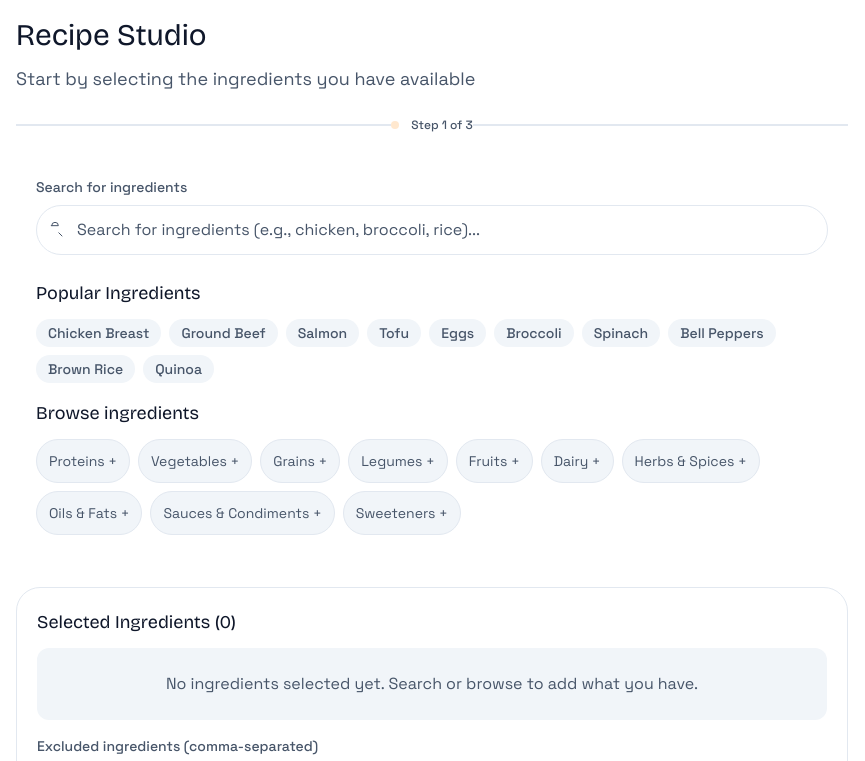
Test case: cancels on Back and ignores a stale response
Type "Lentil" into the search field labelled "Search for ingredients" at (432, 230), box [36,205,828,255]
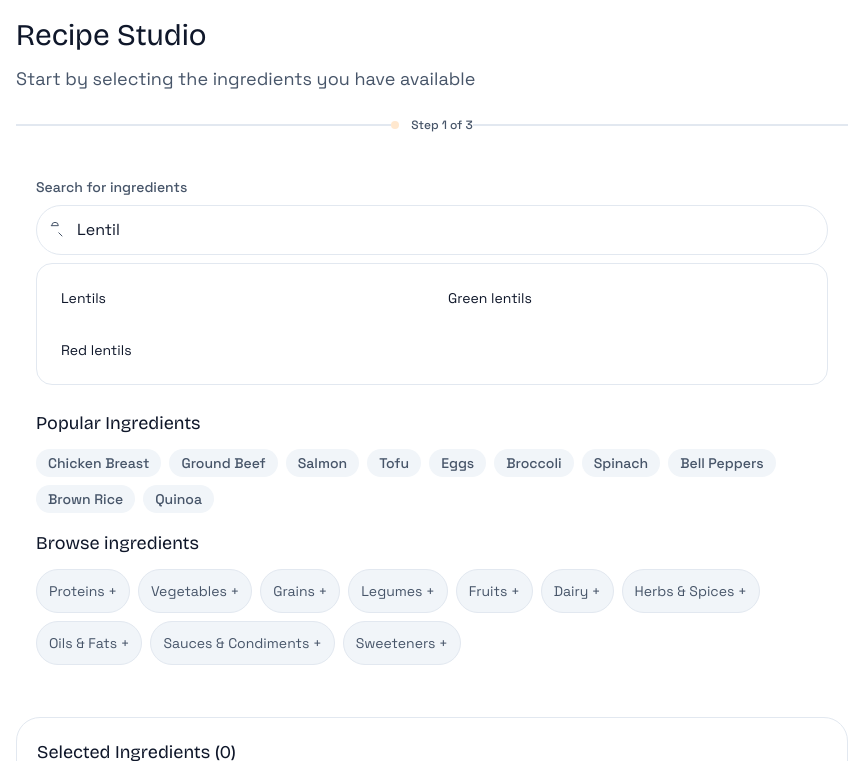
Click the button "Lentils" at (83, 298), box [49,276,428,320]
(page scrolled)
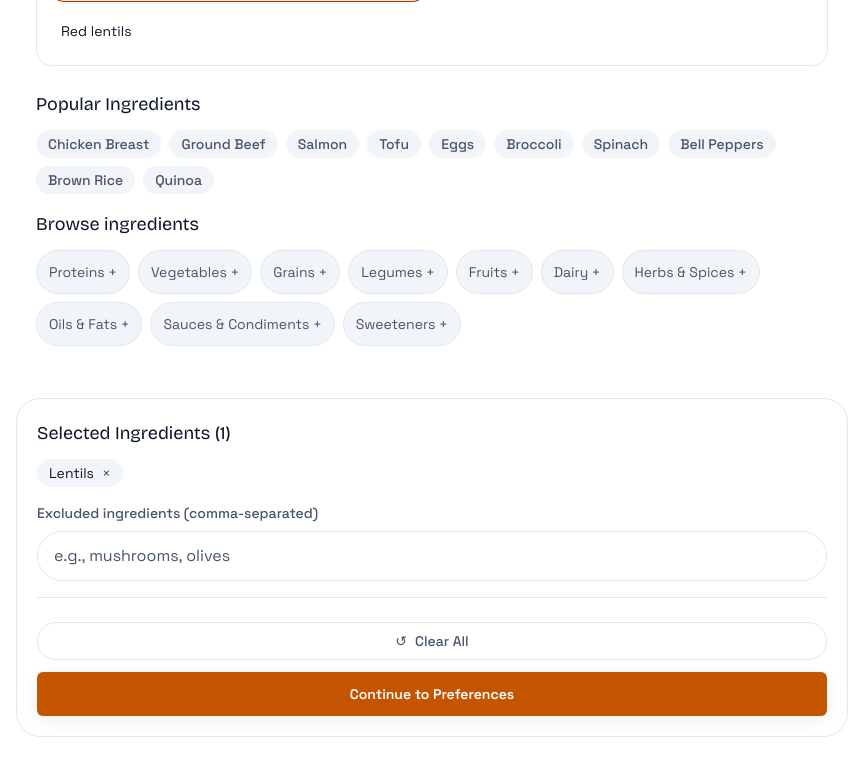
Click the button "Continue to Preferences" at (432, 694), box [37,672,827,716]
(page scrolled)
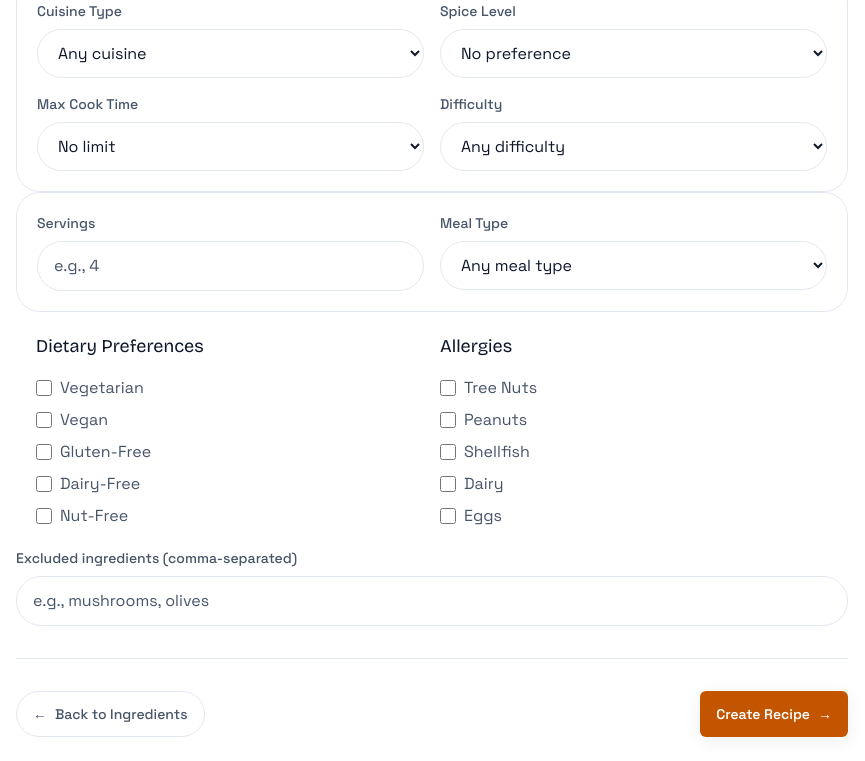
Click the button "Create Recipe →" at (774, 714), box [700,691,848,737]
(page scrolled)
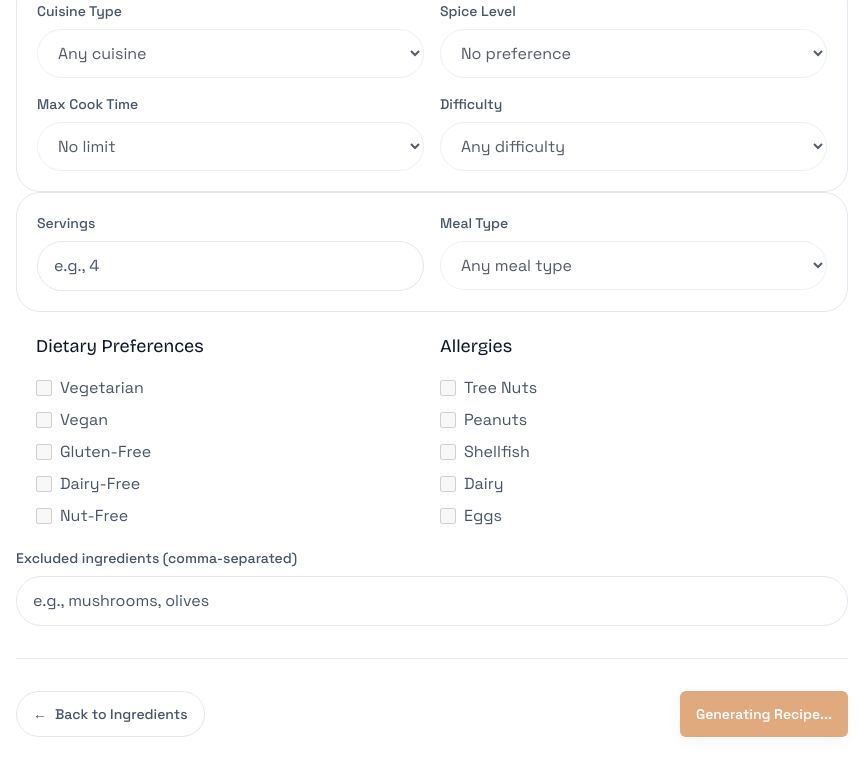
Click the button "← Back to Ingredients" at (110, 714), box [16,691,204,737]
(page scrolled)
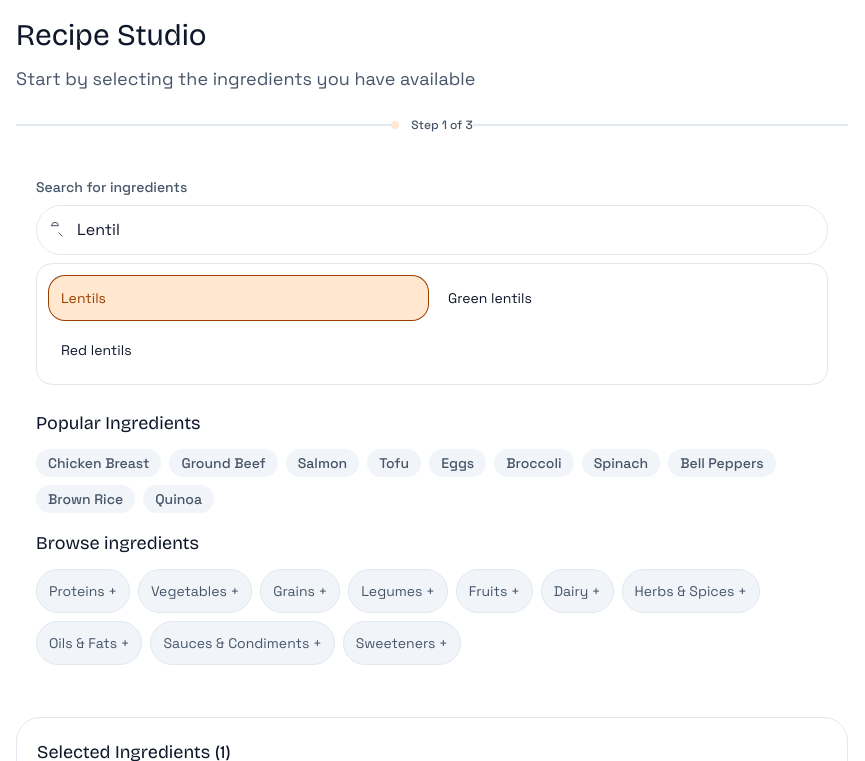
Result: the search field is shown at [36,205,828,255]
